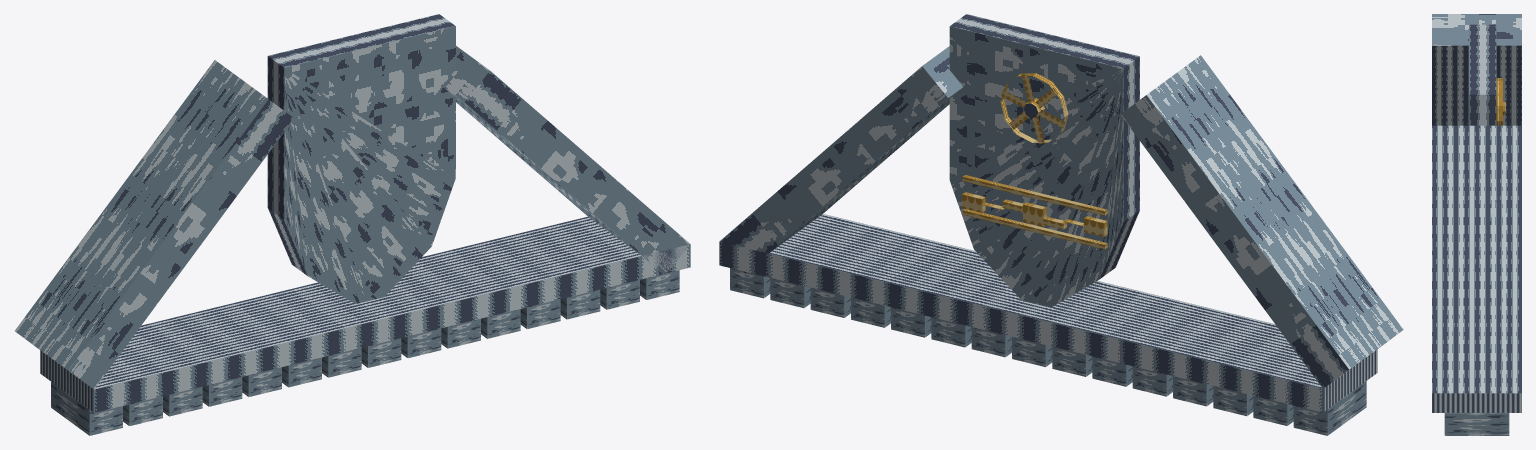
Rendered from ORN-04_Fronton_partido_con_escudo.gltf.
3 views of the same model, side by side, from view 1: azimuth 30°, elevation 25°; view 2: azimuth 150°, elevation 25°; view 3: azimuth 270°, elevation 25° (orthographic). The views are drawn at different scales.
Visible parts, largest first — view 1: ORN-04_Fronton_partido_con_escudo-col; view 2: ORN-04_Fronton_partido_con_escudo-col; view 3: ORN-04_Fronton_partido_con_escudo-col.
Boxes of the visible parts, box(x1,y1,x2,y2) form: ORN-04_Fronton_partido_con_escudo-col: box(15, 14, 690, 435); ORN-04_Fronton_partido_con_escudo-col: box(719, 14, 1403, 435); ORN-04_Fronton_partido_con_escudo-col: box(1432, 14, 1521, 435).
Bounding box in the file's own units: 3.34 × 1.57 × 0.5.
Materials: 1 (1 with a texture image).
